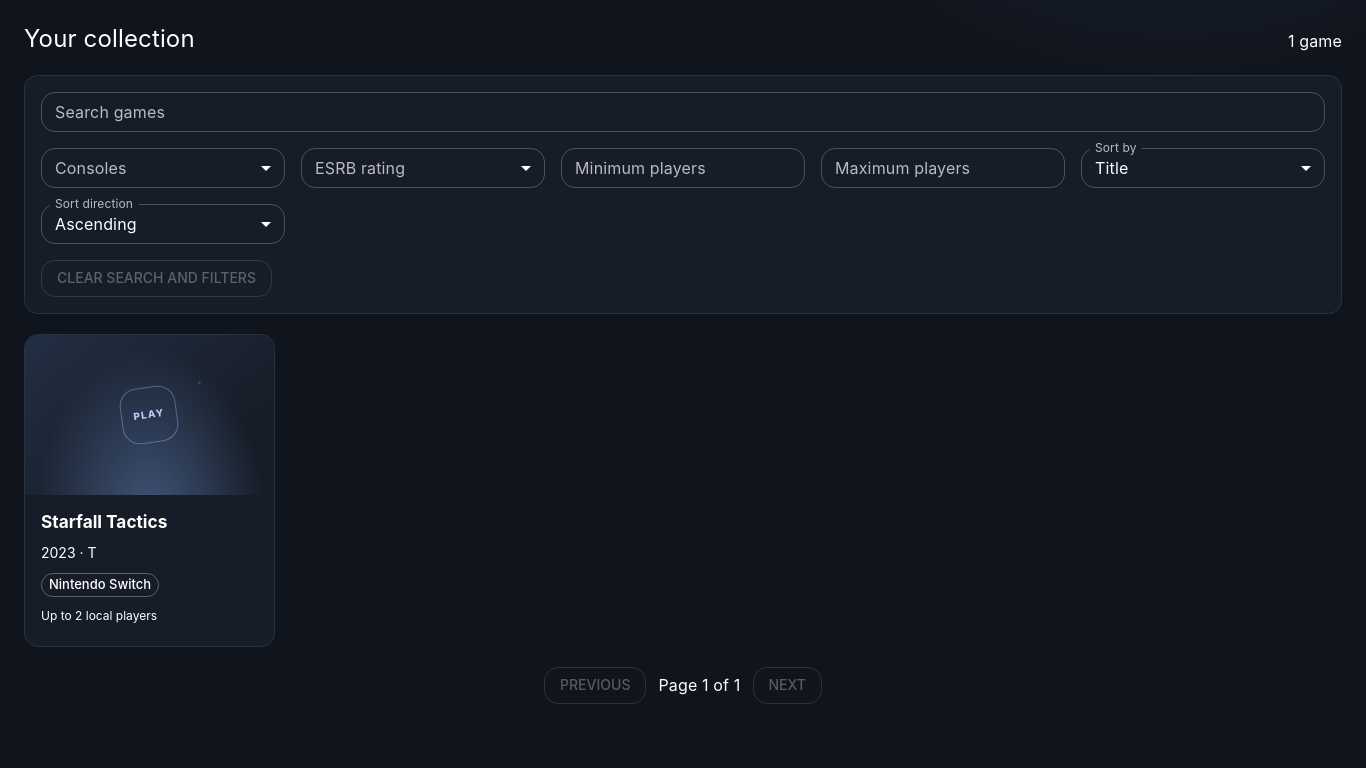
Test case: game details › opens a dedicated detail view with all game fields and handles absent values
(page scrolled)
Click the button with aria-label "View details for Starfall Tactics" at (149, 490), box [25, 335, 274, 646]
(page scrolled)
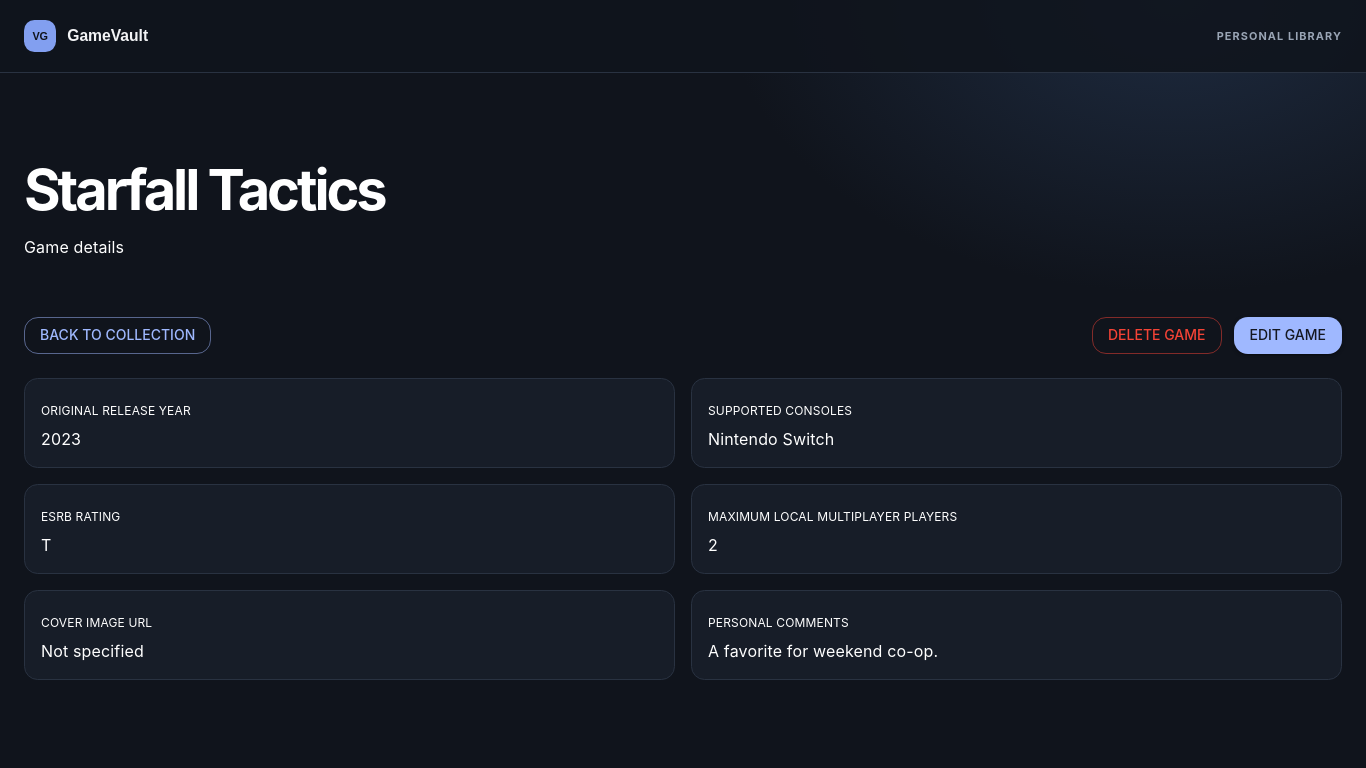
Result: the heading "Starfall Tactics" is shown at [24, 161, 385, 220]
Result: the text "Original release year" is shown at [41, 403, 191, 418]
Result: the text "Supported consoles" is shown at [708, 403, 852, 418]
Click the button "Back to collection" at (118, 336), box [24, 317, 211, 354]
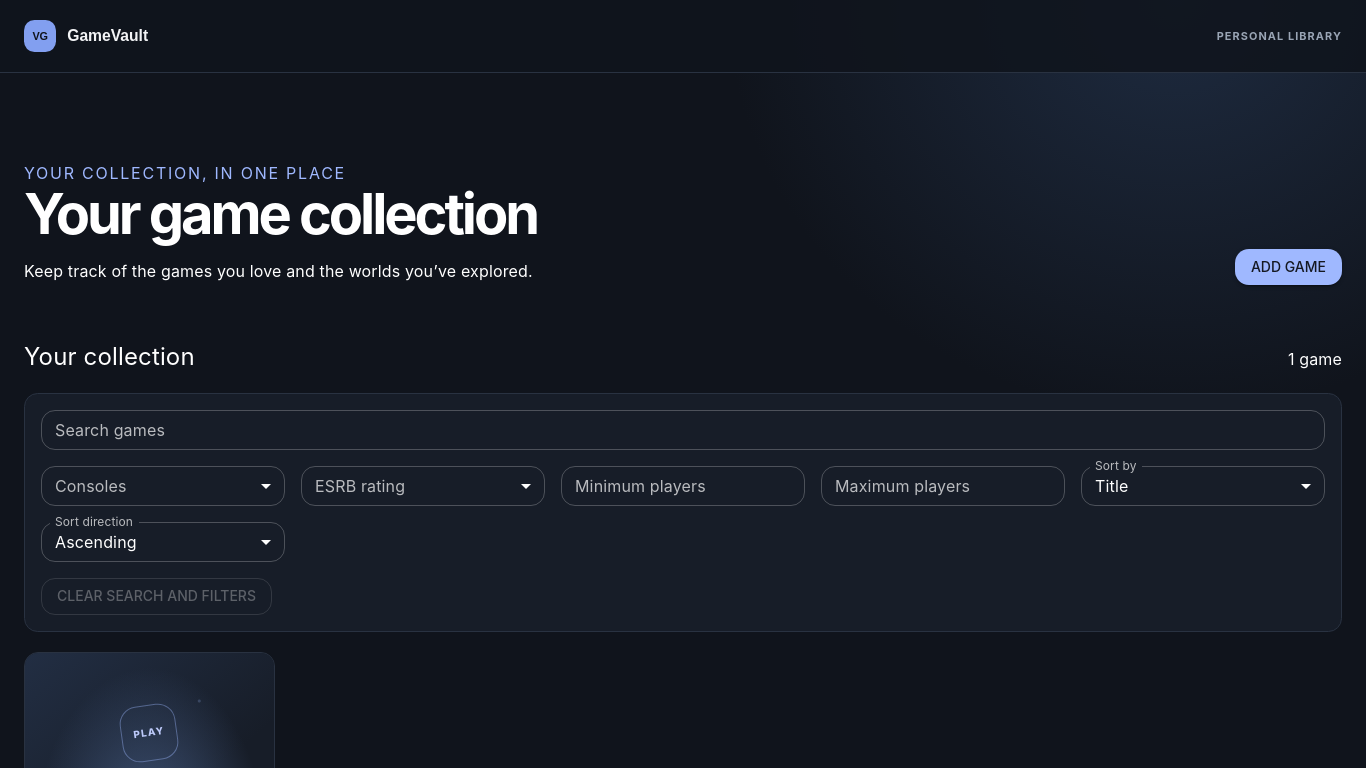
Result: the heading "Your game collection" is shown at [24, 185, 537, 244]
